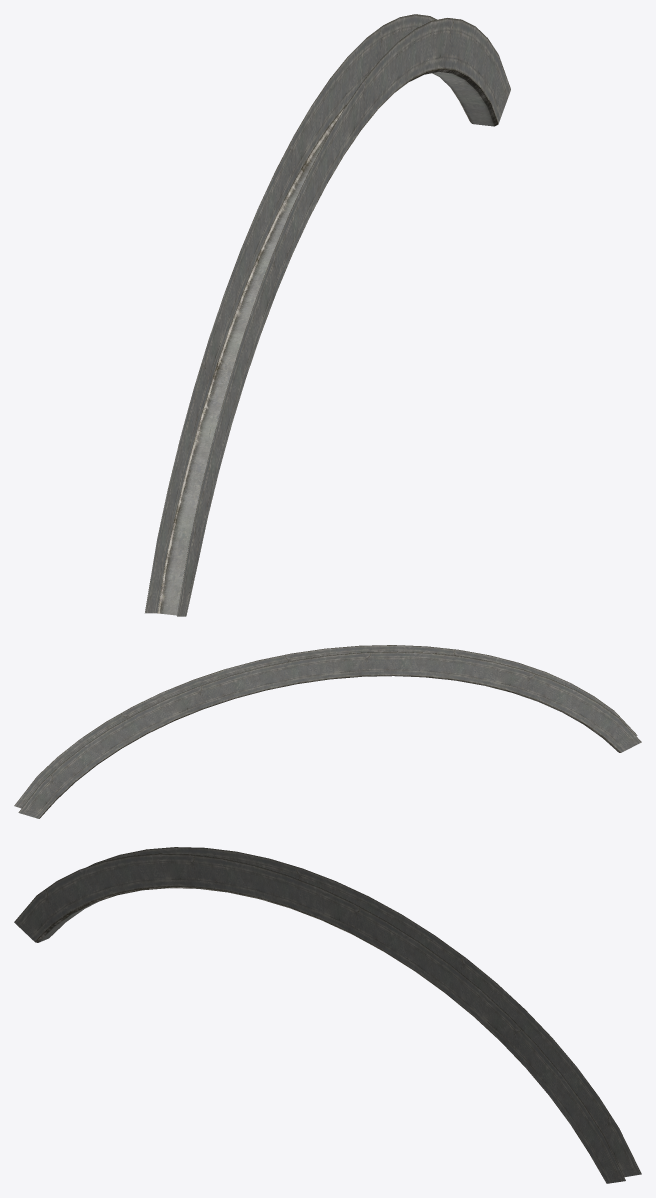
Rendered from FBX_Arch_Diagonal.fbx.
3 views of the same model, one above another, from view 1: azimuth 30°, elevation 25°; view 2: azimuth 150°, elevation 25°; view 3: azimuth 270°, elevation 25° (orthographic). The views are drawn at different scales.
Parts seen in each view (by area): view 1: Arch_Diagonal; view 2: Arch_Diagonal; view 3: Arch_Diagonal.
Part boxes in pixels (x1,y1,x2,y2): Arch_Diagonal: (145, 14, 510, 616); Arch_Diagonal: (14, 645, 641, 818); Arch_Diagonal: (14, 847, 641, 1183).
Bounding box in the file's own units: 1069 × 331 × 1069.
Materials: 1 (1 with a texture image).
